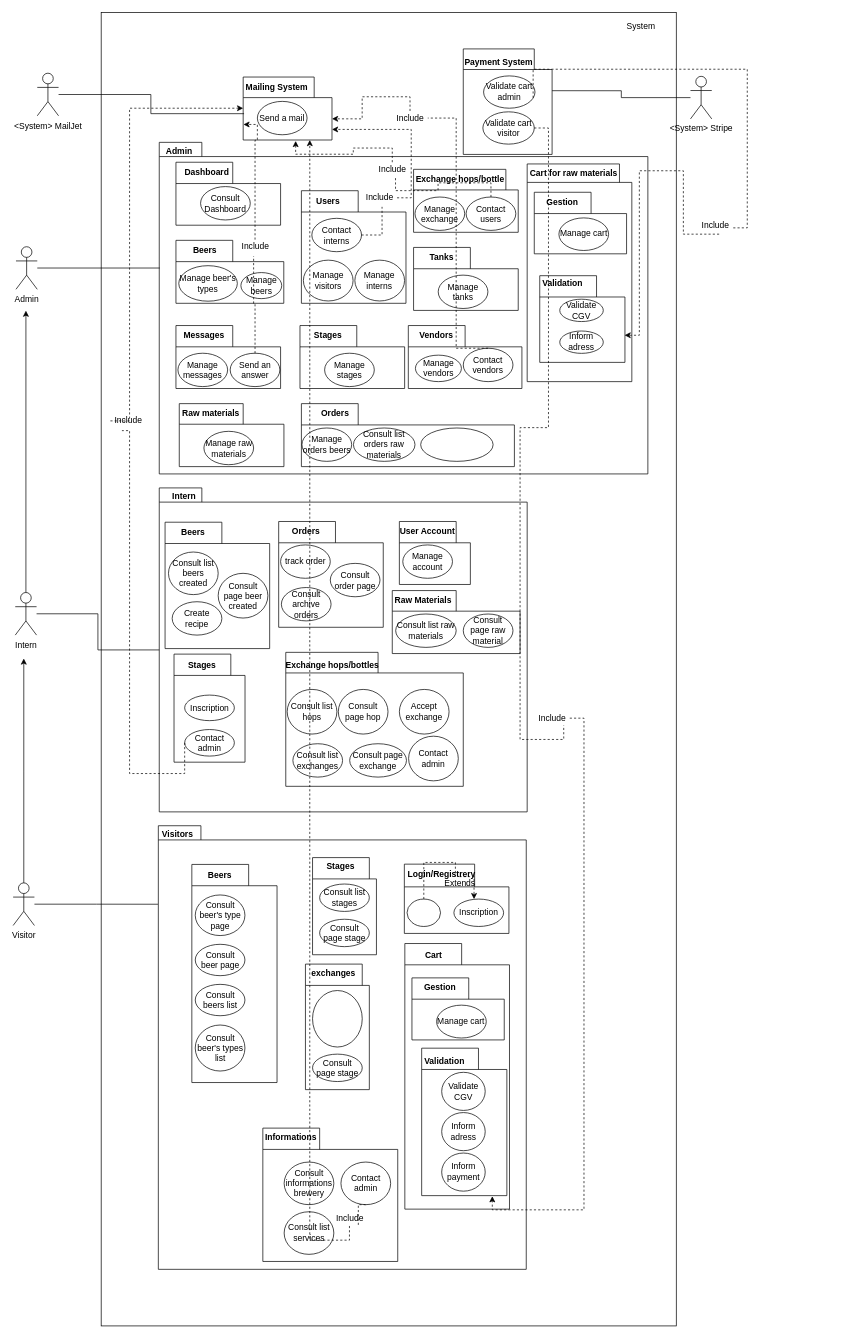
This 858x1338 diagram has some shape labels left out. Here are the shapes that lost their labels. From the top down, the centre of each, then its label:
(456,444): Consult page order raw materials
(423,912): Login
(337,1018): Consult conditions for exchange
